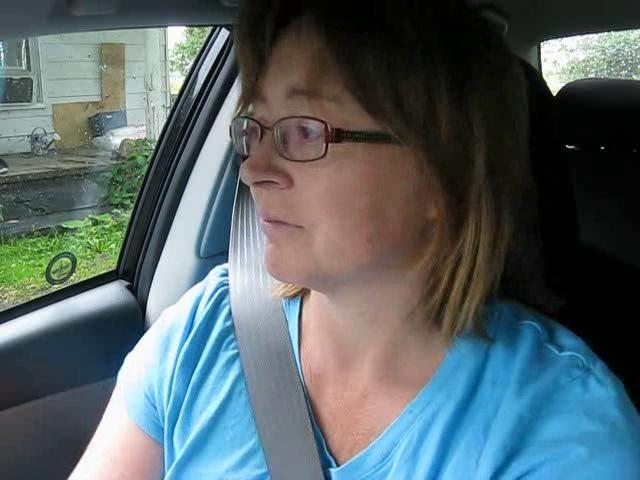no_yawn: (251, 208, 328, 246)
open_eyeR: (276, 112, 340, 158), (222, 109, 270, 161)
